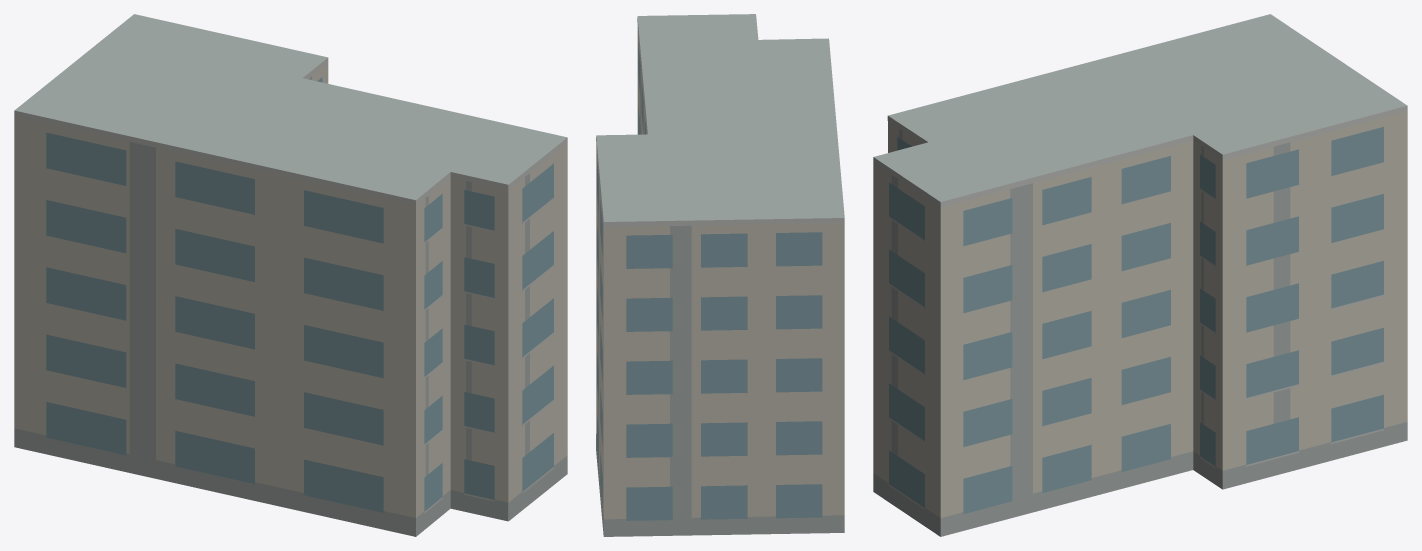
Rendered from survey-upis-32759981.glb.
3 renders of one model, left to right at view 1: azimuth 30°, elevation 25°; view 2: azimuth 150°, elevation 25°; view 3: azimuth 270°, elevation 25°, orthographic. The views are drawn at different scales.
Parts seen in each view (by area): view 1: survey-upis-32759981.tmp; view 2: survey-upis-32759981.tmp; view 3: survey-upis-32759981.tmp.
Part boxes in pixels (left/top/right/bottom): survey-upis-32759981.tmp: left=14, top=14, right=567, bottom=536; survey-upis-32759981.tmp: left=596, top=14, right=844, bottom=536; survey-upis-32759981.tmp: left=873, top=14, right=1407, bottom=536.
Bounding box in the file's own units: 17.88 × 14.84 × 21.46.
